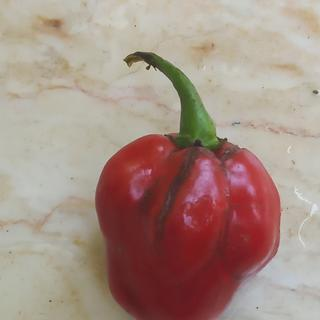Defect: (214, 142, 246, 173)
striped: (154, 145, 204, 242)
